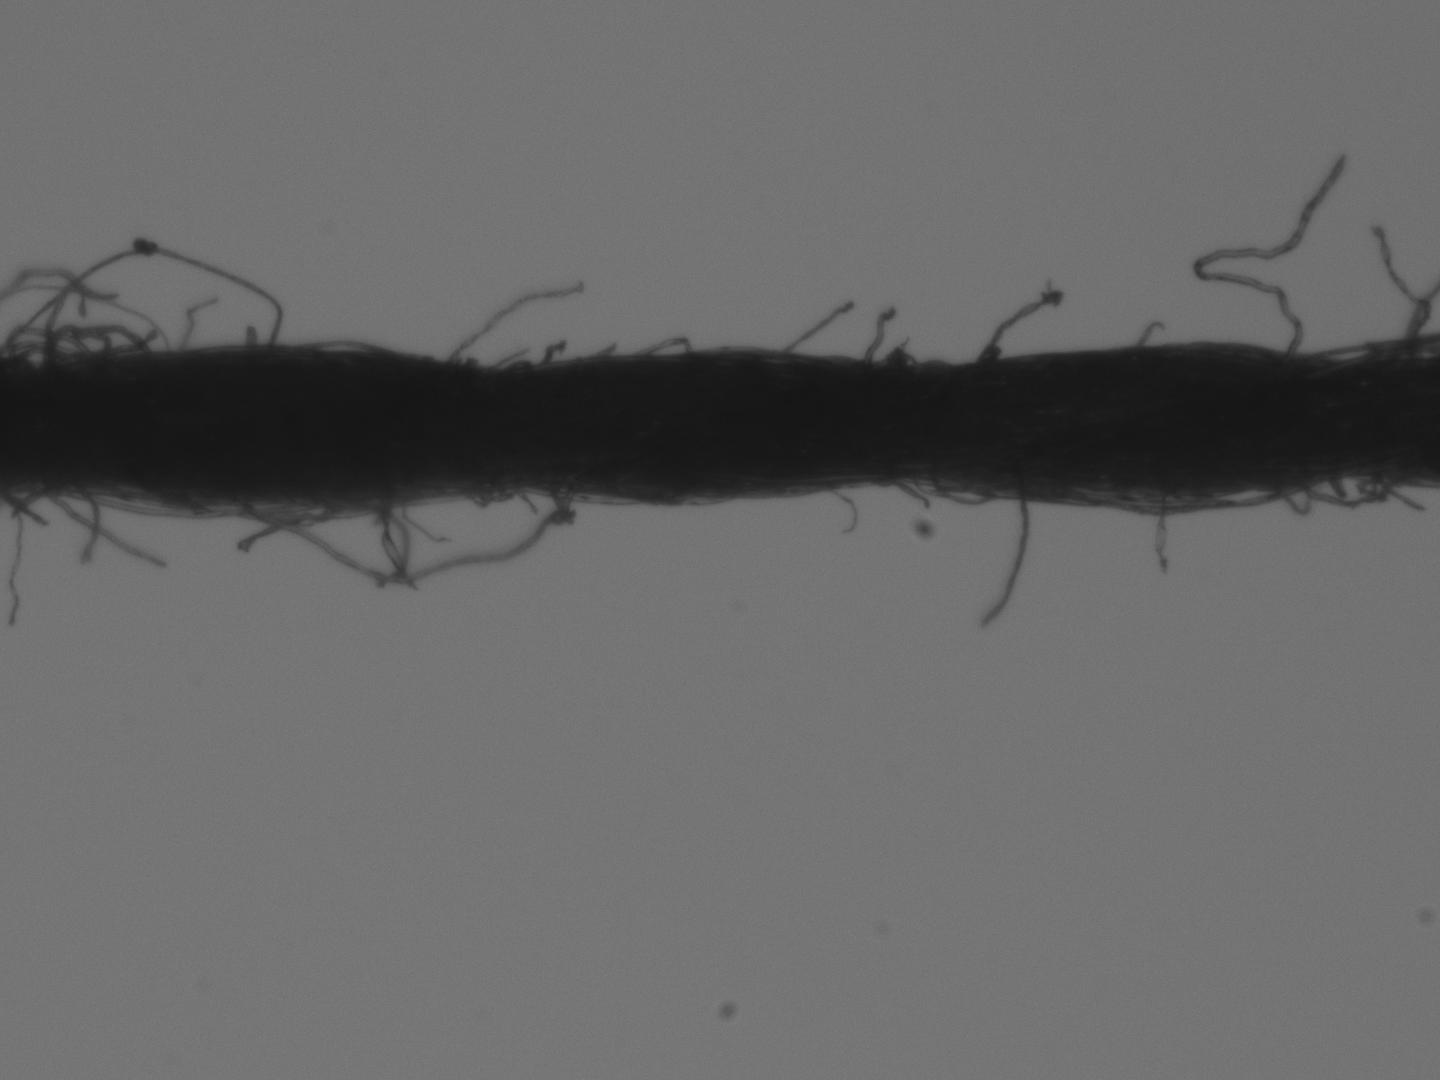loop_fiber: (231, 481, 578, 587), (1065, 479, 1312, 515), (41, 321, 153, 369), (3, 319, 91, 364), (1295, 472, 1399, 509), (926, 473, 994, 506), (637, 332, 696, 360), (880, 346, 917, 372)
protruding_fiber: (1195, 145, 1349, 358), (42, 490, 169, 576), (447, 281, 582, 360), (979, 483, 1033, 633), (780, 298, 856, 353), (857, 307, 898, 364), (1158, 492, 1174, 571)
